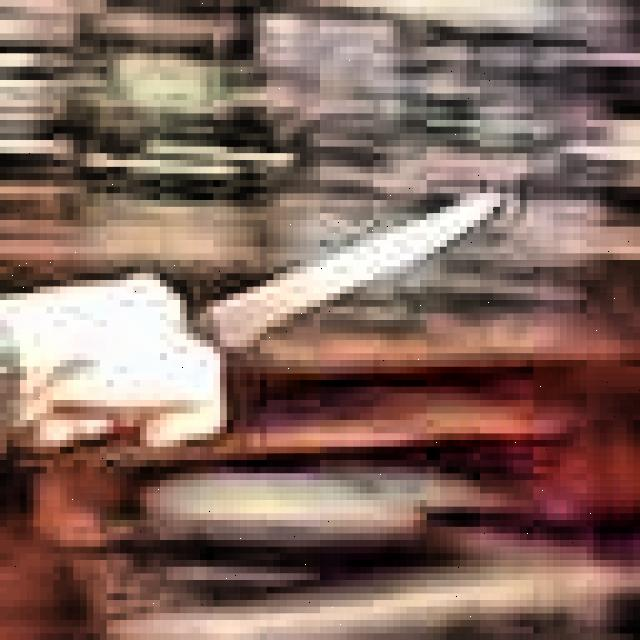knife: (6, 198, 500, 442)
